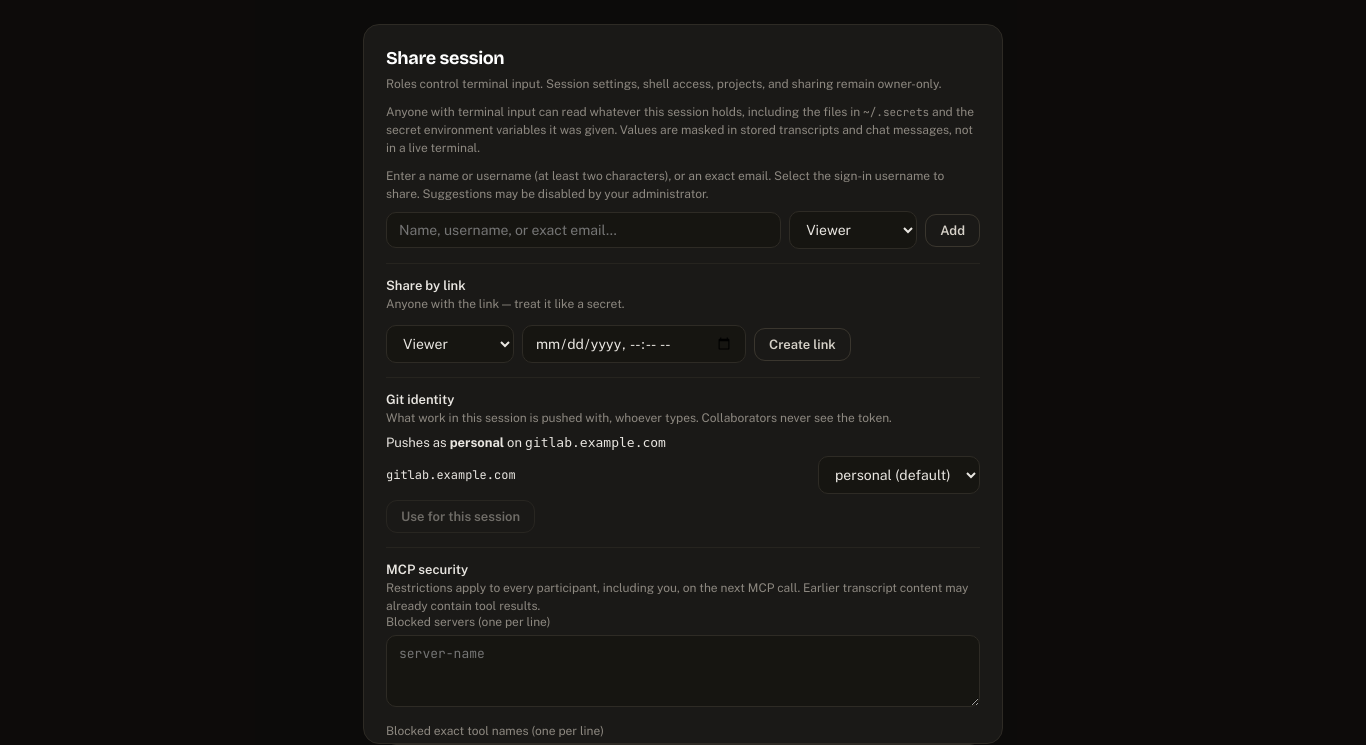
Test: ShareSessionDialog git identity › says "at the next start" when the pod could not take it, and hides itself without tokens
Select "No token" in the 3rd dropdown at [899, 475], box [818,456,980,494]
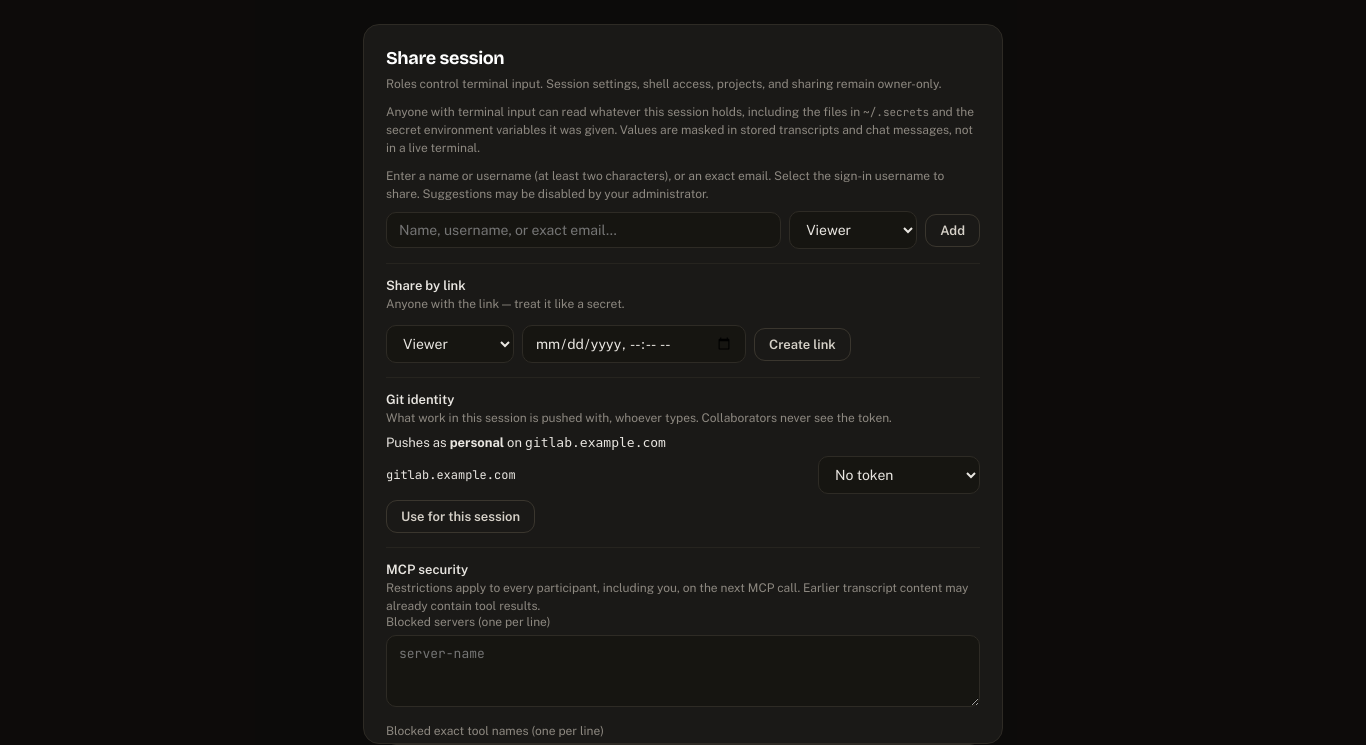
Click the button "Use for this session" at [460, 516], box [386,500,535,533]
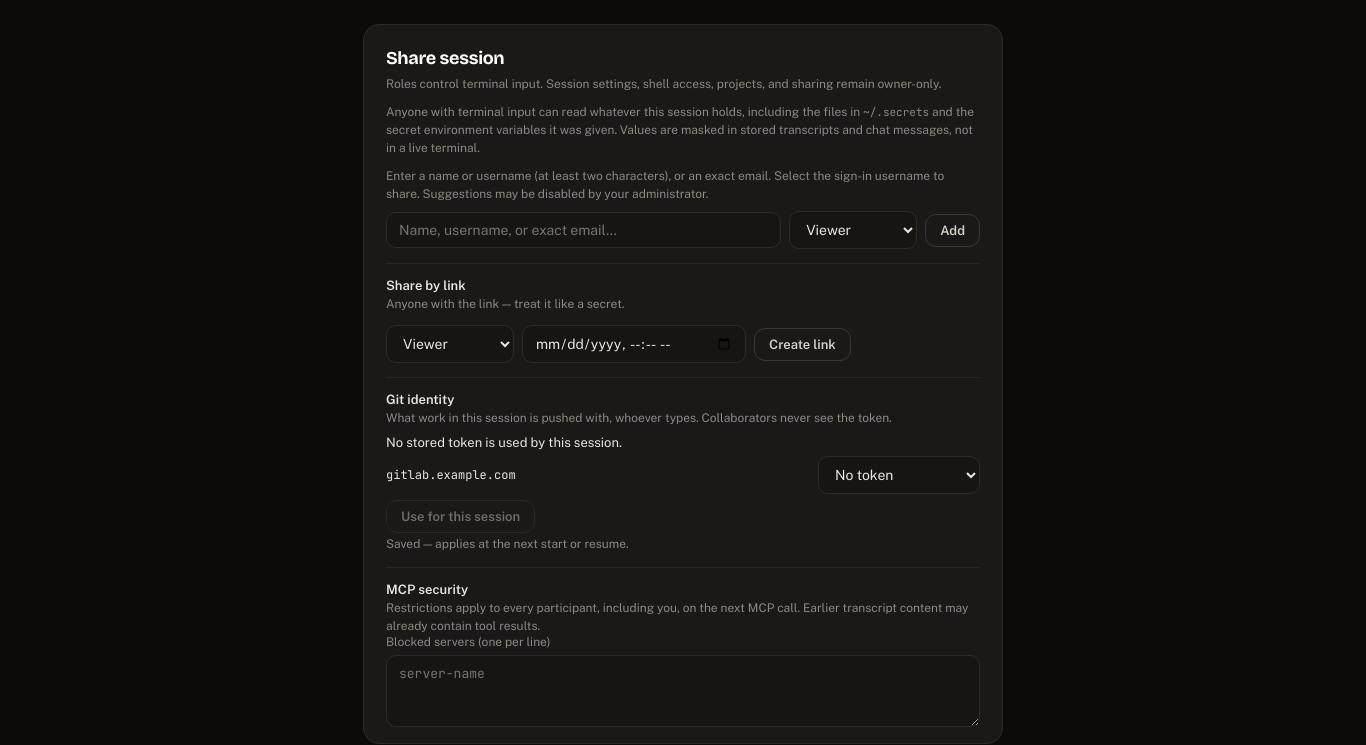
Check: the text "No stored token is used by this session." is shown, box [386,435,622,450]
Check: the text "Saved — applies at the next start or resume." is shown, box [386,537,629,551]
